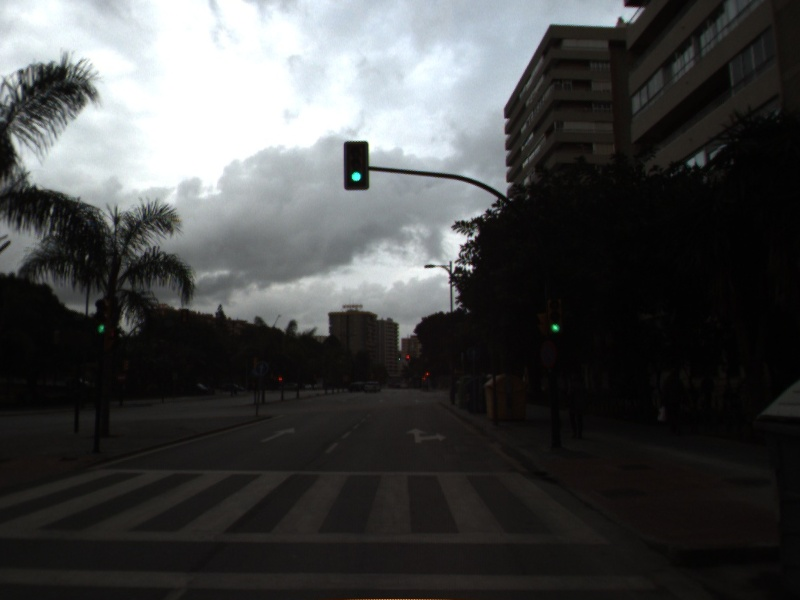STRAIGHT: (257, 425, 298, 444)
STRAIGHT_RIGHT: (403, 425, 449, 445)
